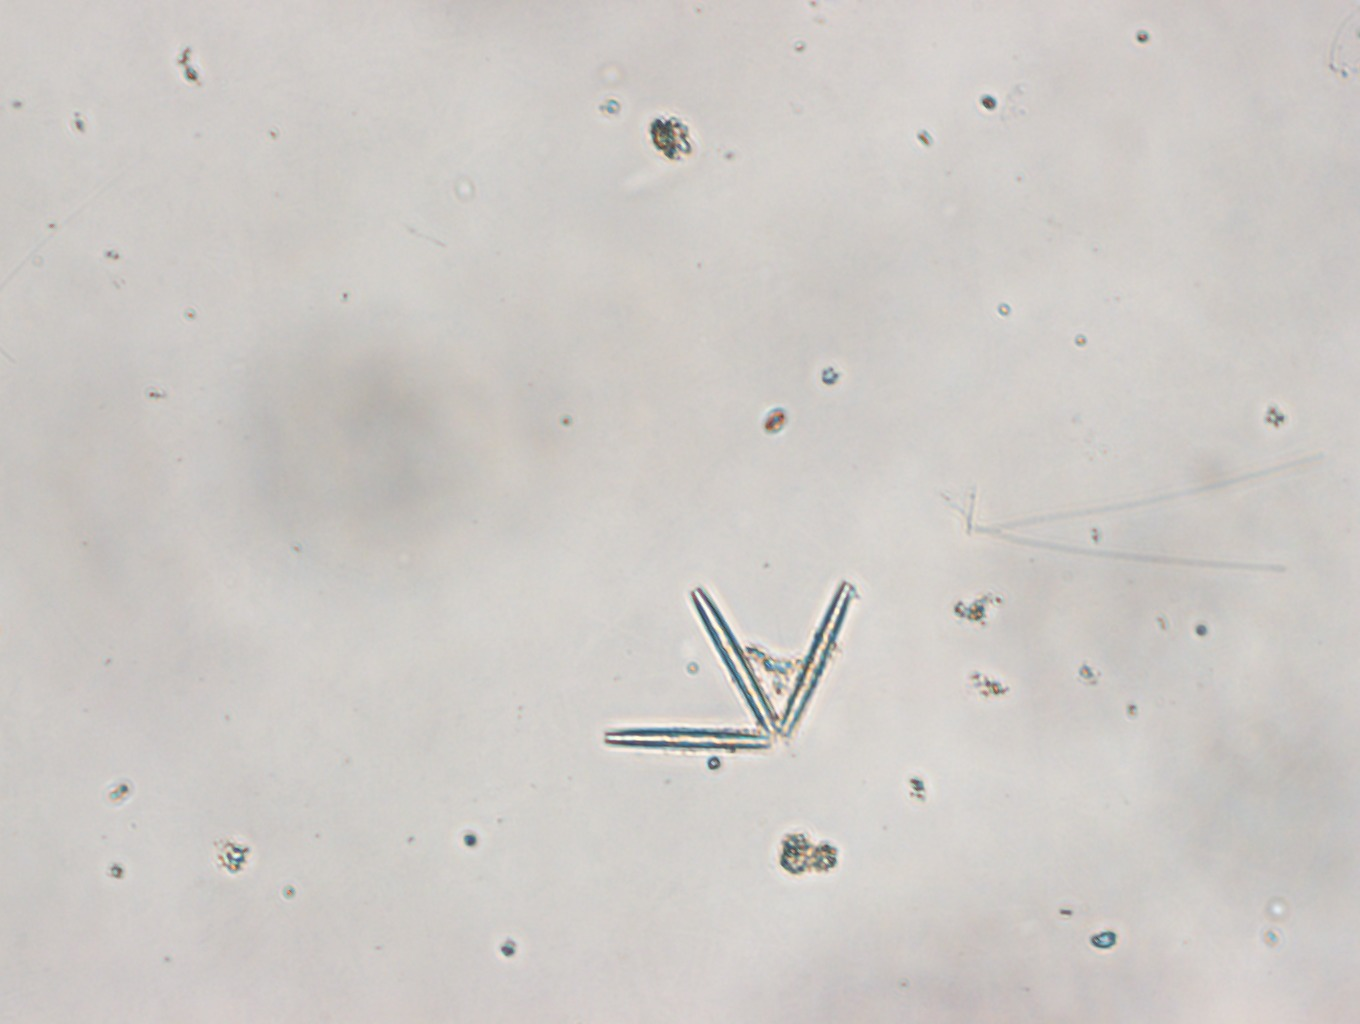thalassionema nitzschioides: (601, 581, 850, 748)
